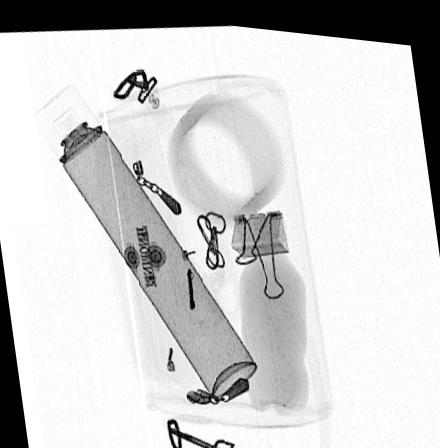Sprayer: (31, 80, 258, 392)
